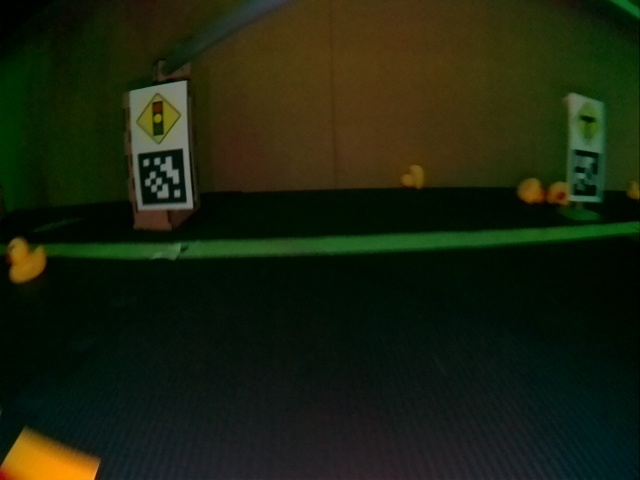Duckie: (6, 238, 46, 280), (519, 178, 543, 202), (401, 165, 424, 187), (547, 181, 570, 202), (628, 182, 639, 199)
Intersection sign: (570, 98, 602, 147)
QR code: (138, 150, 189, 207), (572, 148, 599, 197)
Signal sign: (134, 91, 183, 147)
